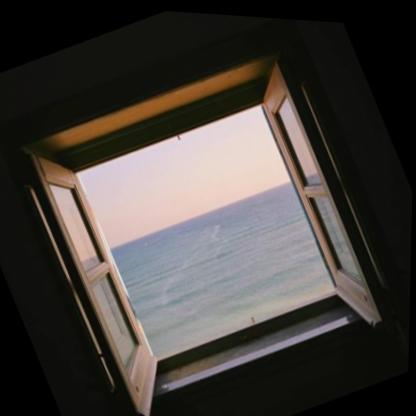Window: (0, 8, 411, 416)
